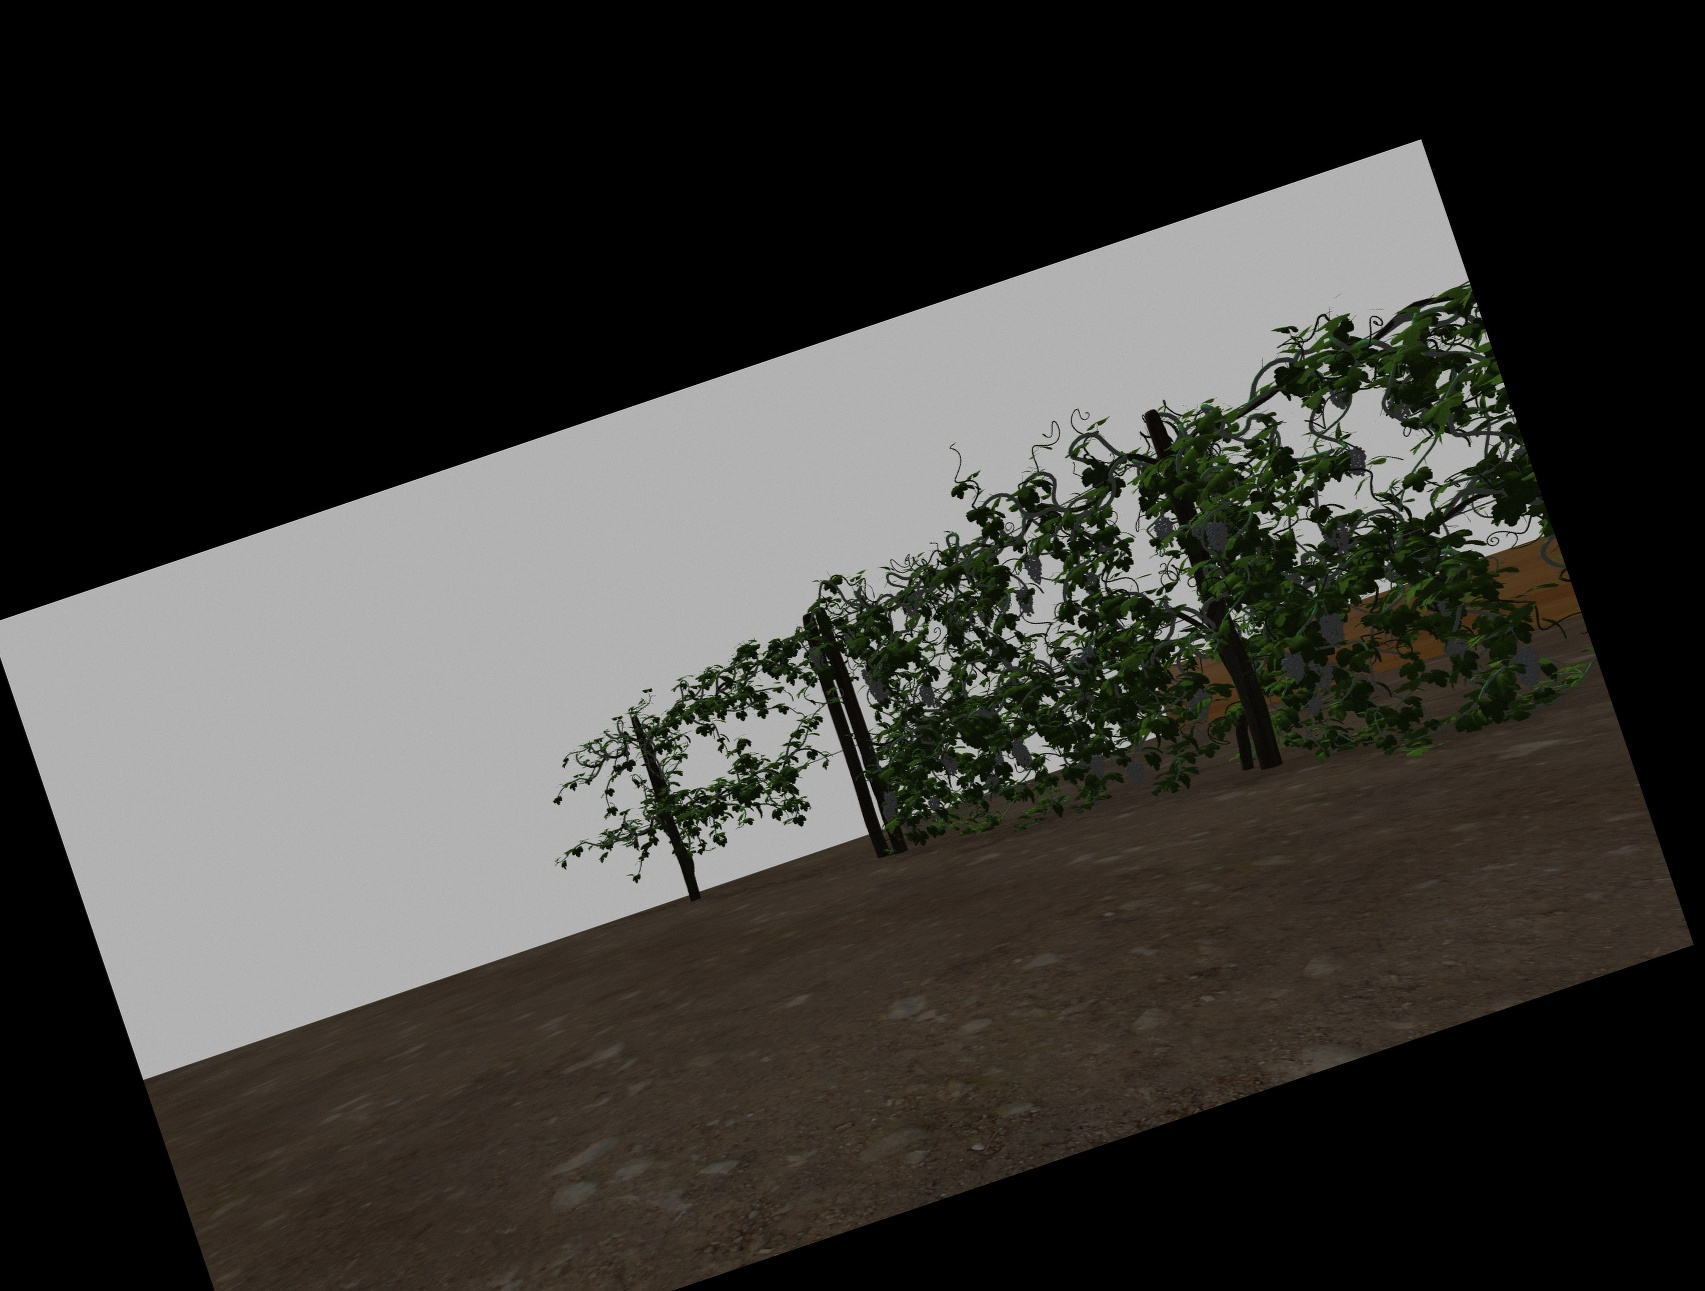grape: (1512, 644, 1542, 689), (1322, 519, 1351, 555), (1321, 613, 1344, 648), (1312, 656, 1335, 692), (1282, 650, 1305, 683), (1188, 686, 1213, 717), (1206, 519, 1229, 551), (1346, 443, 1367, 476), (863, 667, 882, 702), (1012, 736, 1030, 769), (1304, 688, 1322, 717), (1156, 517, 1175, 547), (1126, 758, 1145, 787), (1025, 553, 1043, 583), (1016, 586, 1034, 616), (1088, 750, 1105, 780), (1445, 636, 1468, 656), (920, 682, 935, 707), (808, 644, 823, 669), (941, 751, 956, 774), (983, 772, 1000, 788), (882, 803, 897, 820), (883, 789, 897, 808), (928, 795, 941, 812)
